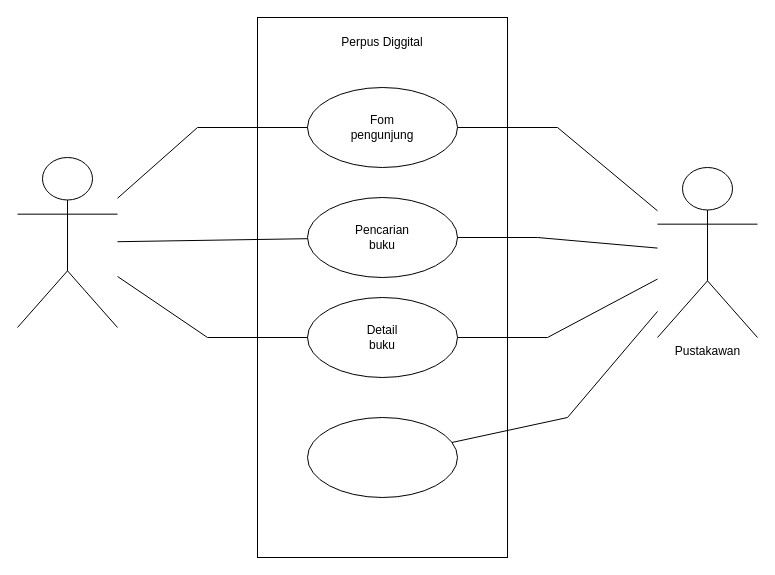
This 775x575 diagram has some shape labels left out. Each missing label, with the centre of its shape:
Laporan statistik: pixel 382 457
pengunjung: pixel 67 242
